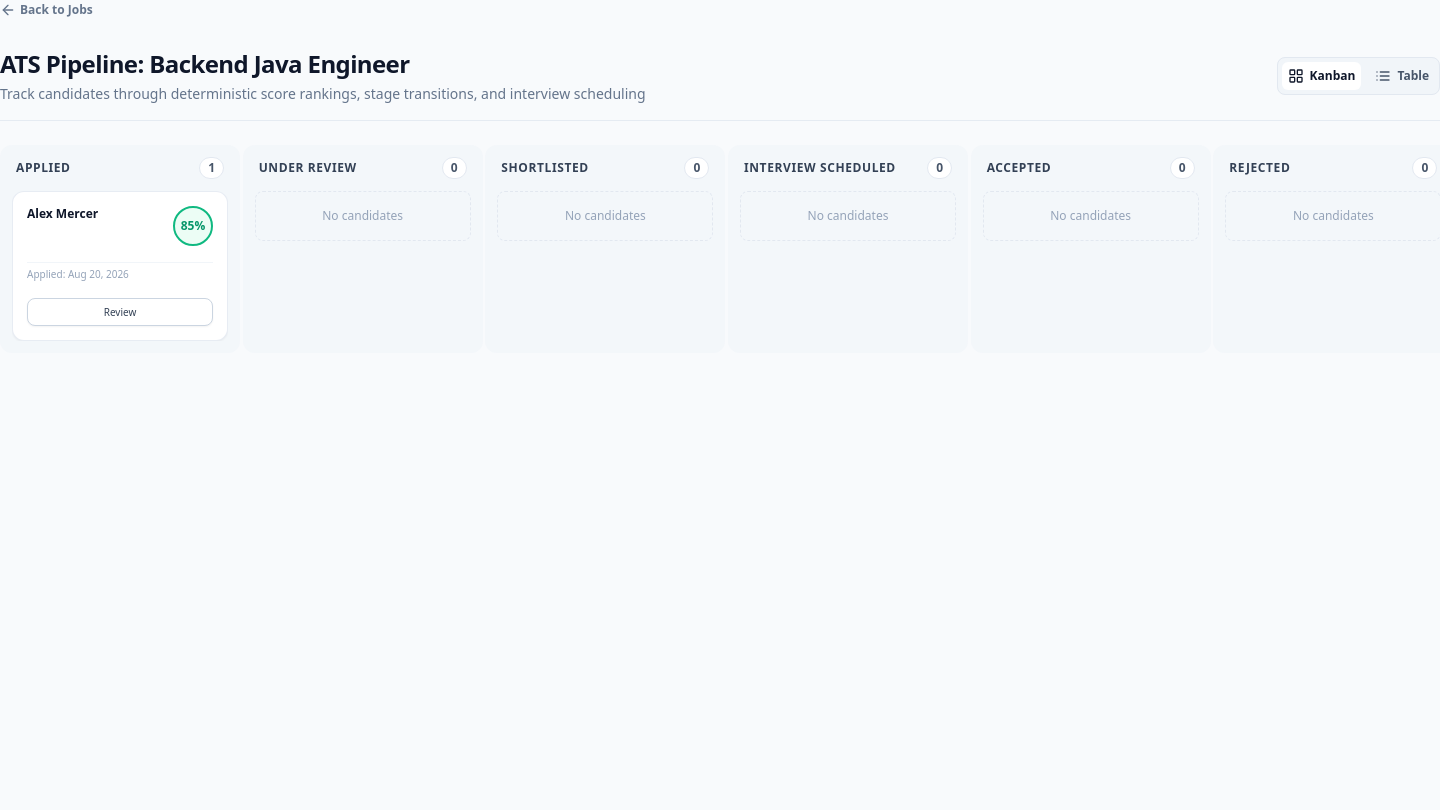
Test: Recruiter Dossier & Notes Workflow › renders meaningful 400 transition error if invalid status transition occurs
The image size is (1440, 810).
Expected: the heading "Alex Mercer" is shown, [27, 206, 98, 222]
// Click Review button
Click the button "Review". click: point(120, 312)
box: [27, 298, 213, 326]
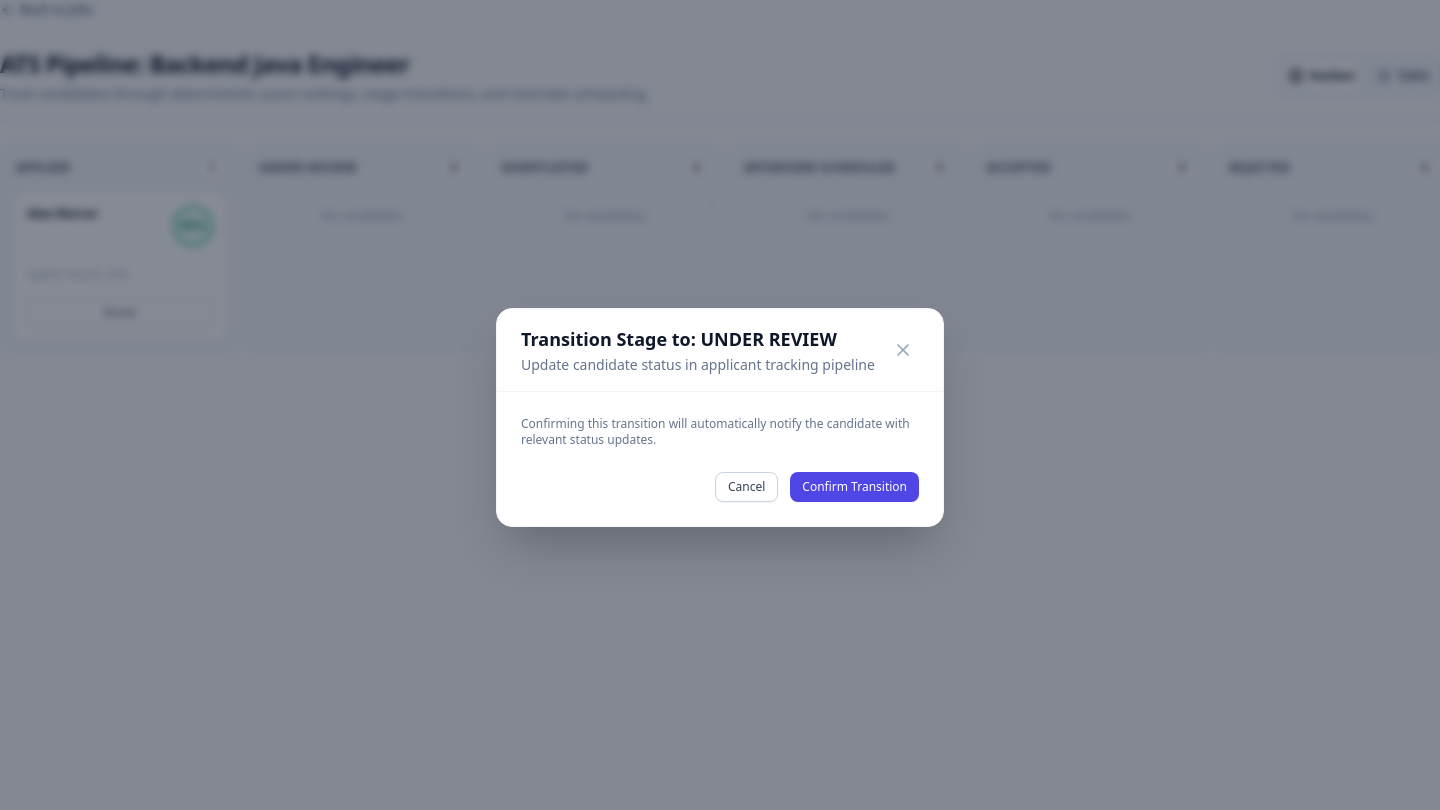
Now the button "Confirm Transition" is shown
Click the button "Confirm Transition". click: point(855, 486)
box: [790, 472, 919, 502]
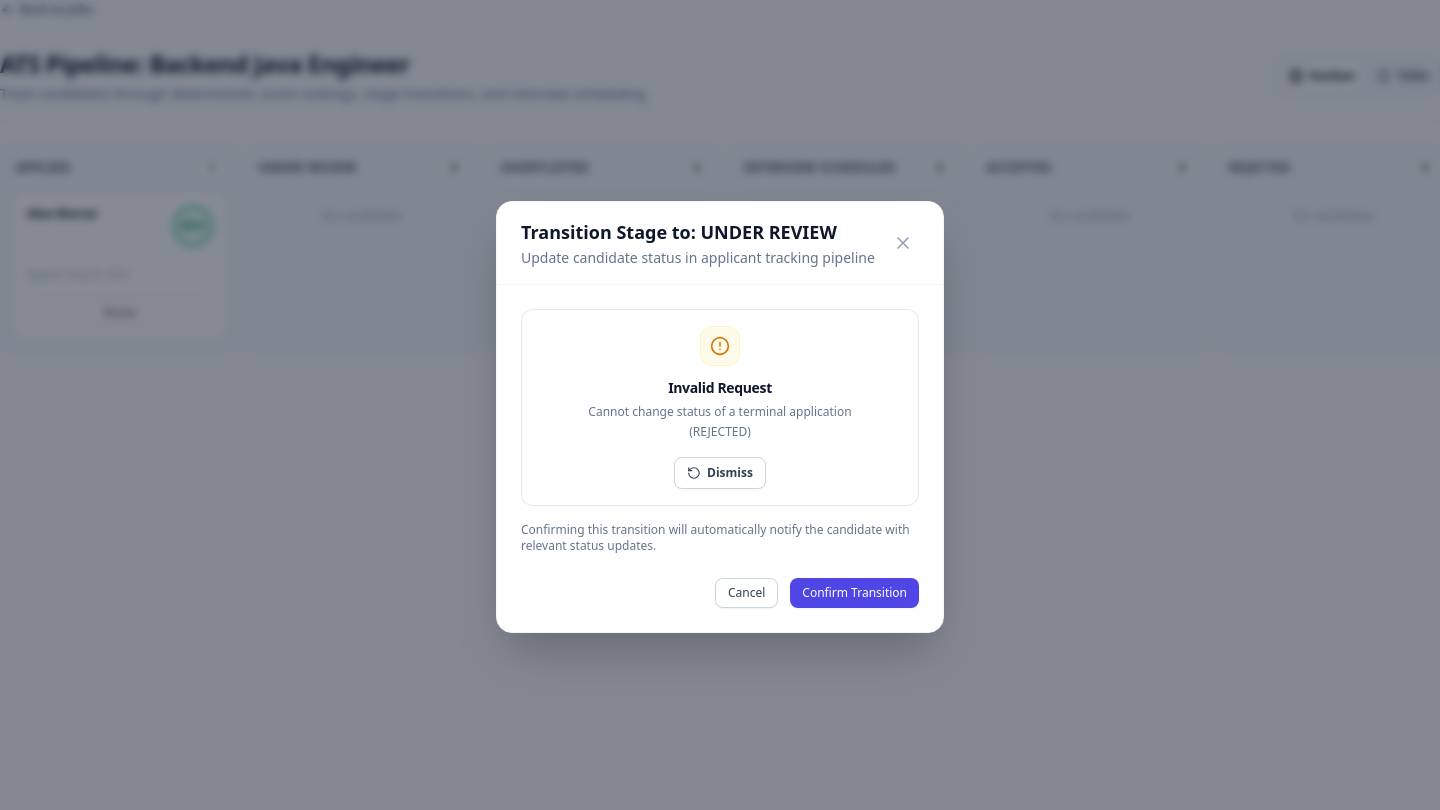
Now the text "Cannot change status of a terminal application (REJECTED)" is shown, box [588, 403, 852, 440]
